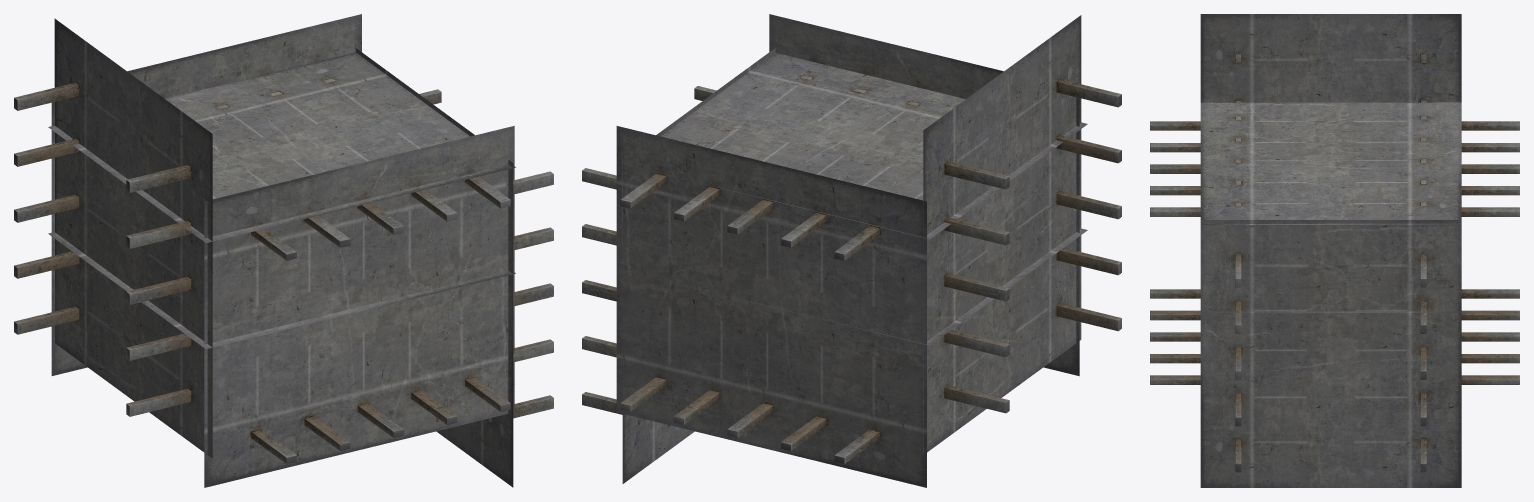
File: RoadHouse.glb
3 renders of one model, left to right at view 1: azimuth 30°, elevation 25°; view 2: azimuth 150°, elevation 25°; view 3: azimuth 270°, elevation 25°, orthographic. The views are drawn at different scales.
Visible parts, largest first — view 1: Object_2.004, Object_2.003, Object_2.001, Object_2.005, Object_2.002, Object_2; view 2: Object_2.005, Object_2.003, Object_2.001, Object_2.004, Object_2.002, Object_2; view 3: Object_2.002, Object_2.001, Object_2.003, Object_2.005, Object_2.004, Object_2.
Part boxes in pixels (x1,y1,x2,y2): Object_2.004: (204,126,514,487); Object_2.003: (14,18,212,458); Object_2.001: (48,52,515,242); Object_2.005: (51,14,361,375); Object_2.002: (355,48,553,487); Object_2: (48,232,515,349); Object_2.005: (616,126,926,487); Object_2.003: (923,15,1121,454); Object_2.001: (620,52,1087,239); Object_2.004: (769,14,1079,376); Object_2.002: (582,48,775,483); Object_2: (620,228,1087,345); Object_2.002: (1200,220,1461,487); Object_2.001: (1200,102,1461,224); Object_2.003: (1200,14,1461,102); Object_2.005: (1461,121,1519,384); Object_2.004: (1150,121,1200,384); Object_2: (1200,311,1461,312).
Bounding box in the file's own units: 26.68 × 25.68 × 24.39.
Materials: 2 (1 with a texture image).
